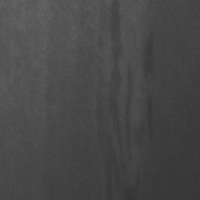inclusion: (101, 1, 133, 199), (135, 29, 158, 148)
